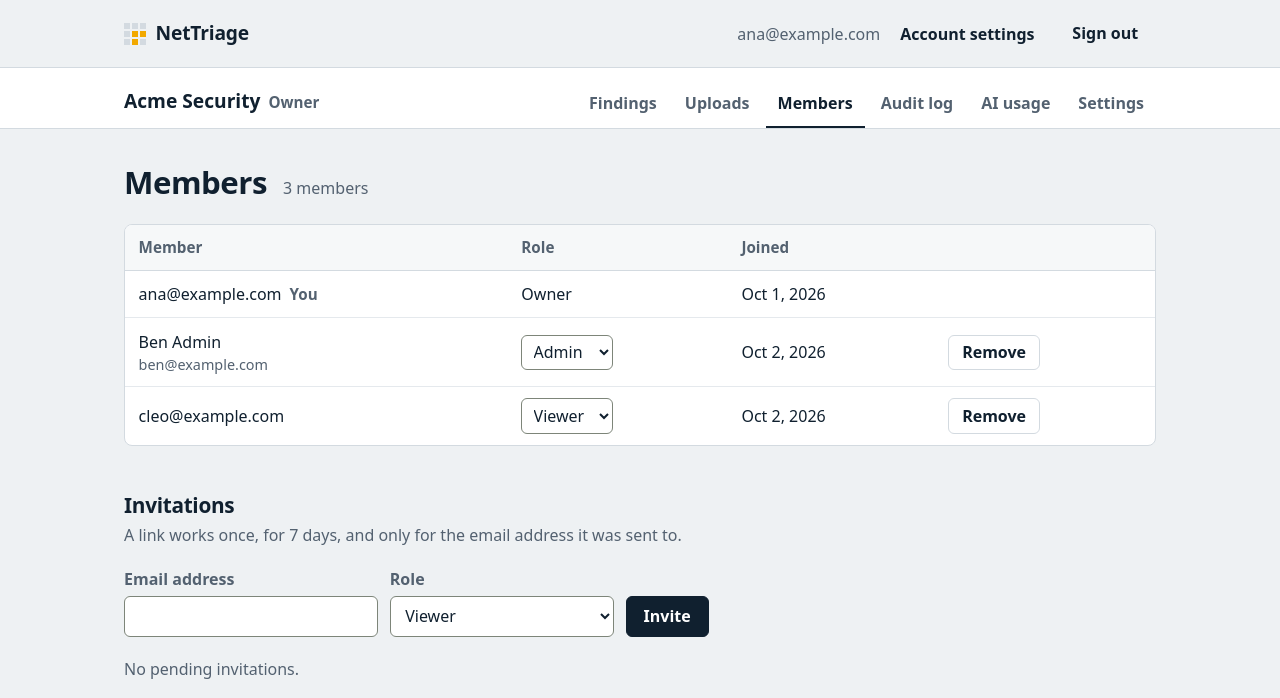
it: a change the API refuses says why
Select "Owner" in the dropdown named "Role of cleo@example.com": x=567, y=416 [521, 398, 613, 434]
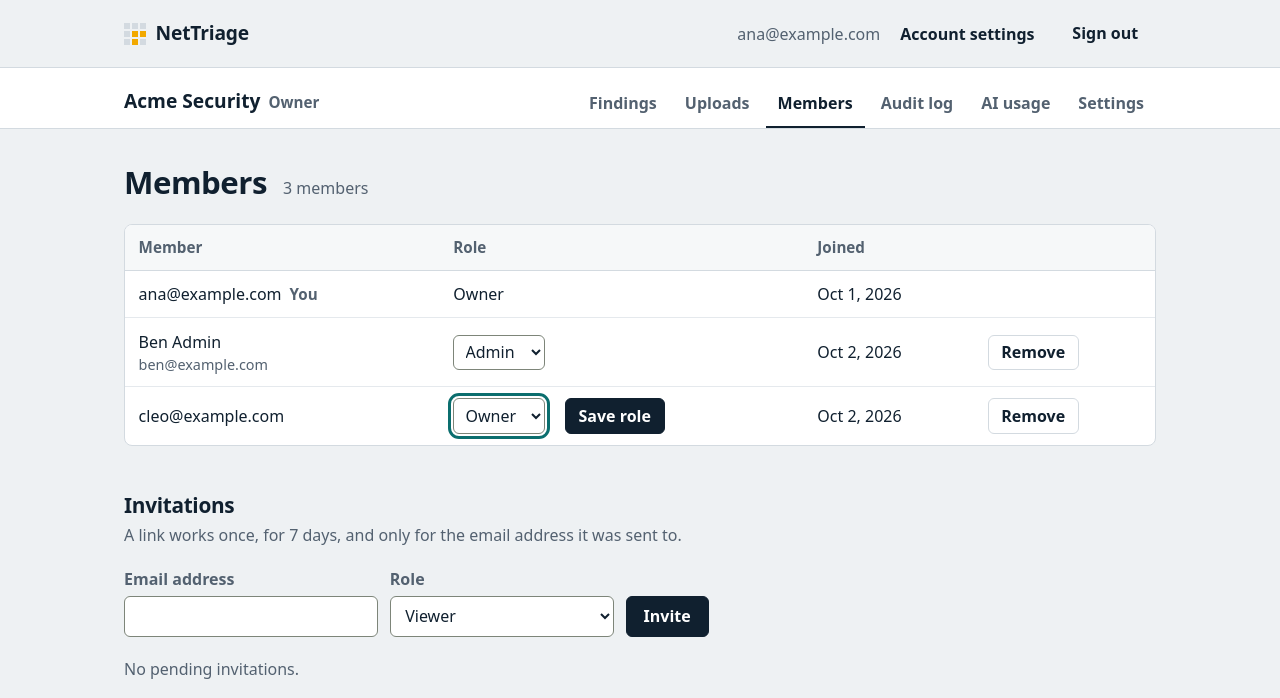
Click the button with aria-label "Save the role of cleo@example.com": x=615, y=416 [565, 398, 665, 434]
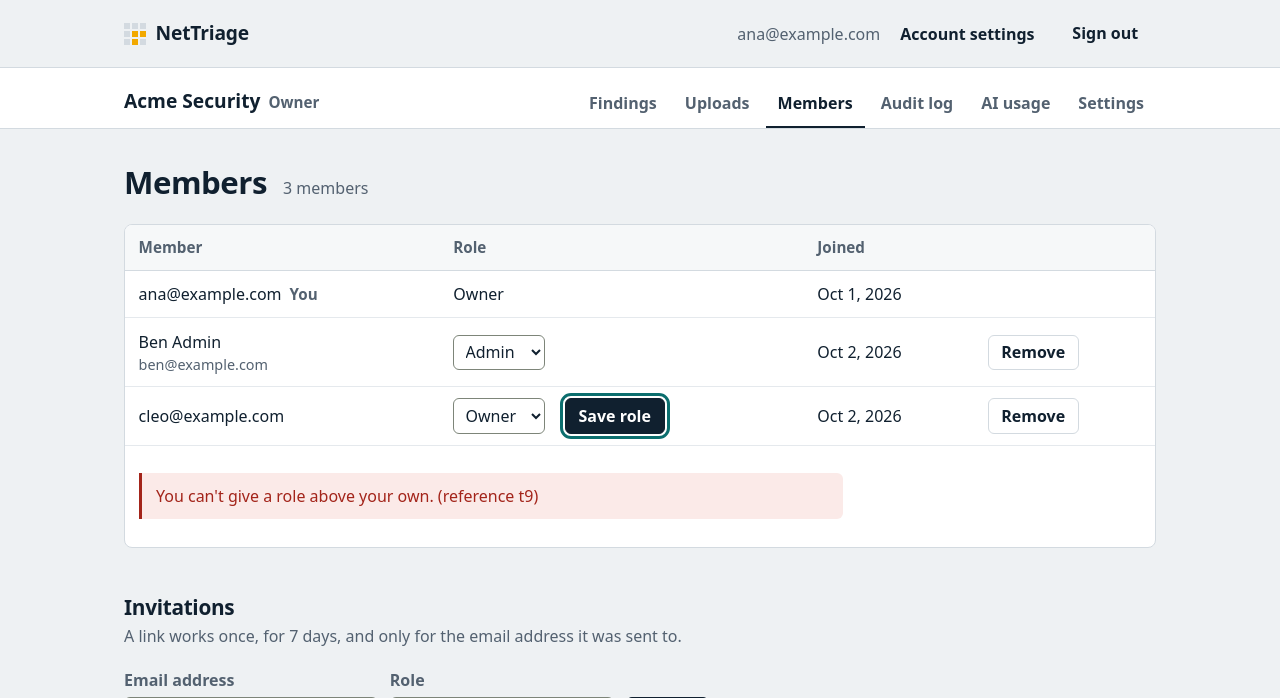
Expected: the message reads "You can't give a role above your own. (reference t9)", [156, 485, 538, 507]
